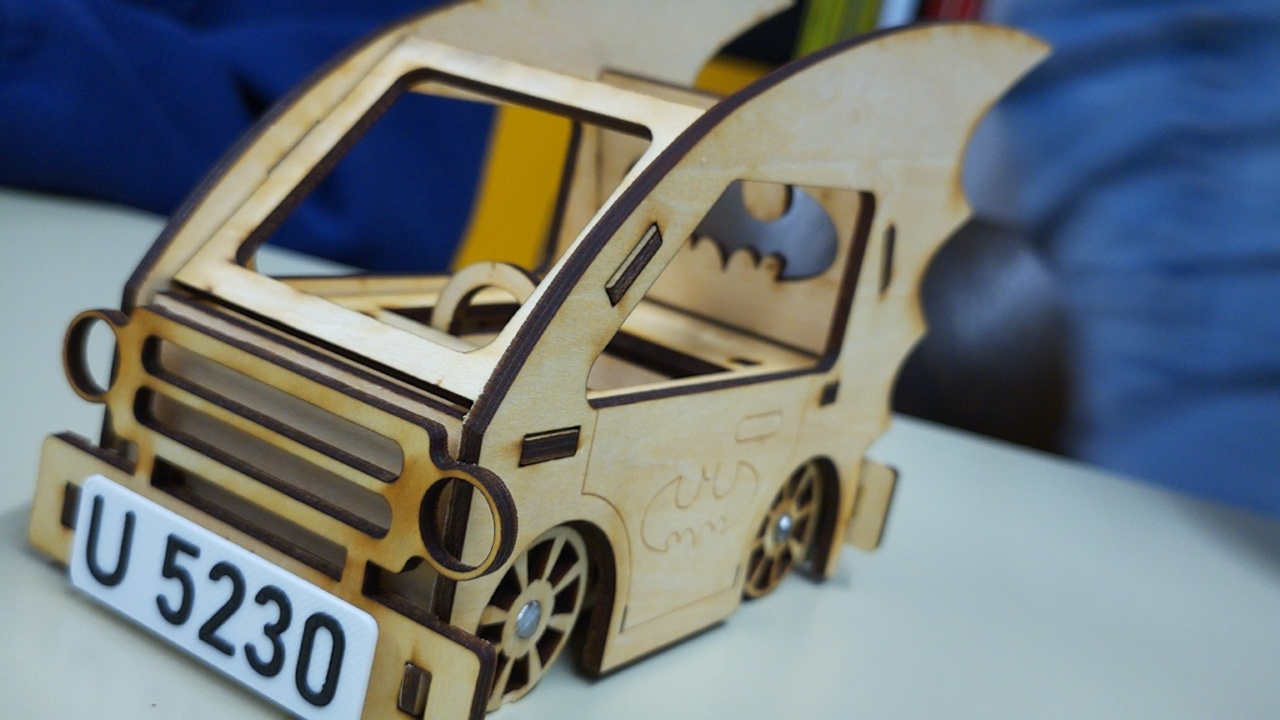license_plate: (65, 471, 381, 720)
